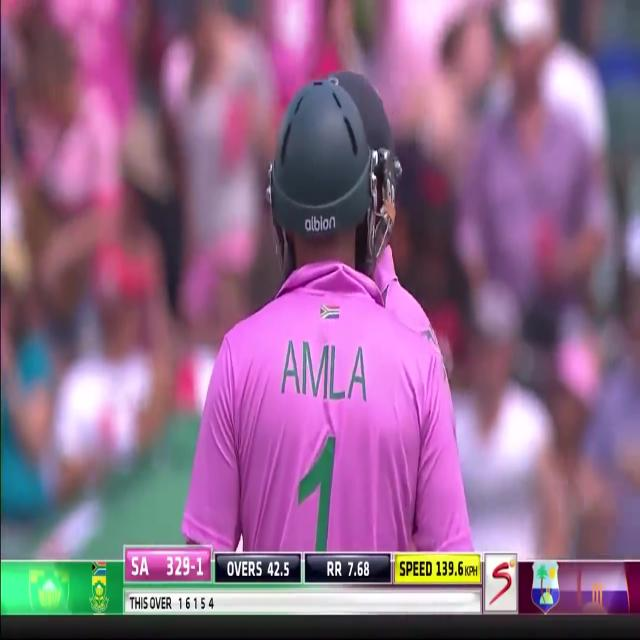Ball: (187, 68, 472, 556)
